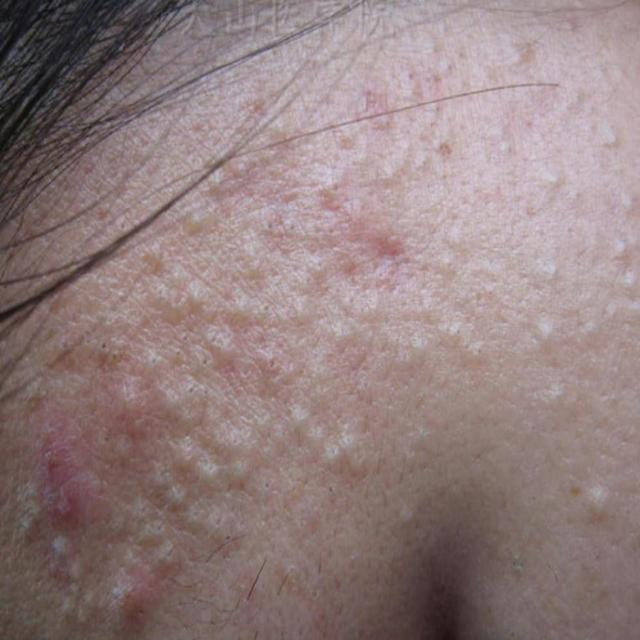fungal: (31, 50, 439, 610)
